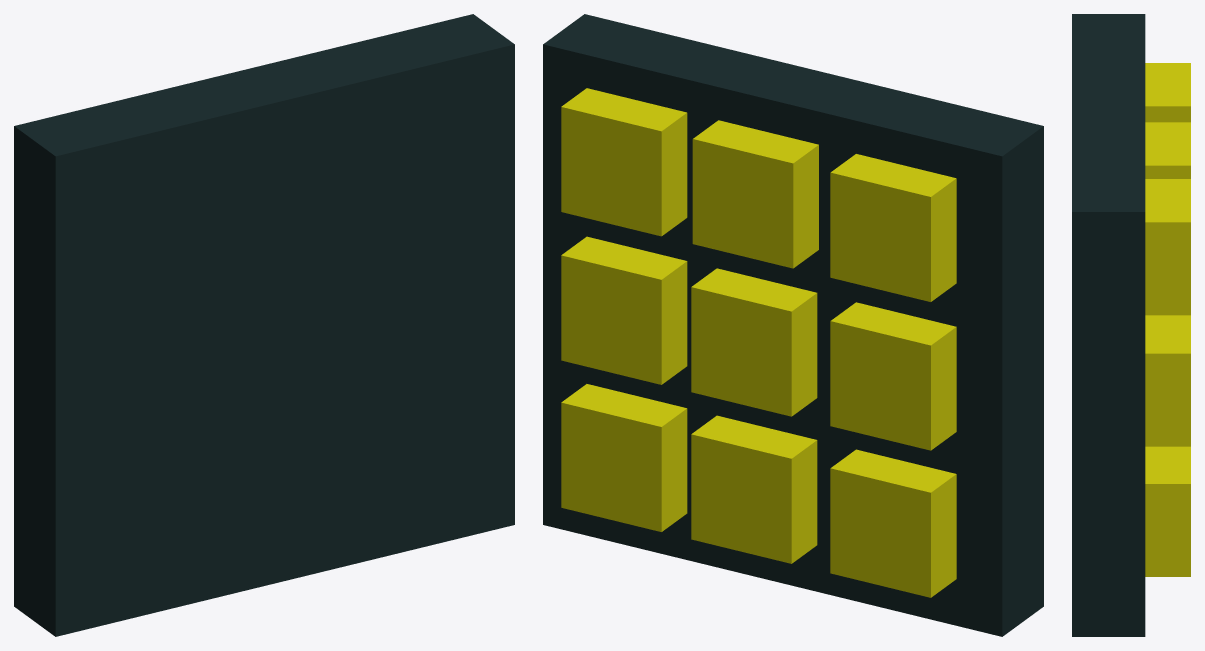
Rendered from tablero_ver2.glb.
3 renders of one model, left to right at view 1: azimuth 30°, elevation 25°; view 2: azimuth 150°, elevation 25°; view 3: azimuth 270°, elevation 25°, orthographic. The views are drawn at different scales.
Visible parts, largest first — view 1: Cube; view 2: Cube, Boton6, Boton9, Boton2, Boton4, Boton8, Boton, Boton3, Boton5, Boton7; view 3: Cube, Boton, Boton4, Boton7, Boton3, Boton2.
Boxes of the visible parts, x1=… form: Cube: x1=14, y1=14, x2=514, y2=636; Cube: x1=543, y1=14, x2=1043, y2=636; Boton6: x1=830, y1=302, x2=956, y2=450; Boton9: x1=830, y1=449, x2=956, y2=597; Boton2: x1=692, y1=120, x2=818, y2=268; Boton4: x1=561, y1=236, x2=687, y2=384; Boton8: x1=691, y1=415, x2=817, y2=563; Boton: x1=561, y1=88, x2=687, y2=236; Boton3: x1=830, y1=154, x2=956, y2=301; Boton5: x1=691, y1=268, x2=817, y2=416; Boton7: x1=561, y1=384, x2=687, y2=531; Cube: x1=1072, y1=14, x2=1145, y2=636; Boton: x1=1145, y1=179, x2=1190, y2=315; Boton4: x1=1145, y1=315, x2=1190, y2=446; Boton7: x1=1145, y1=446, x2=1190, y2=576; Boton3: x1=1145, y1=63, x2=1190, y2=122; Boton2: x1=1145, y1=122, x2=1190, y2=178.
Bounding box in the file's own units: 2 × 2 × 0.5069.
